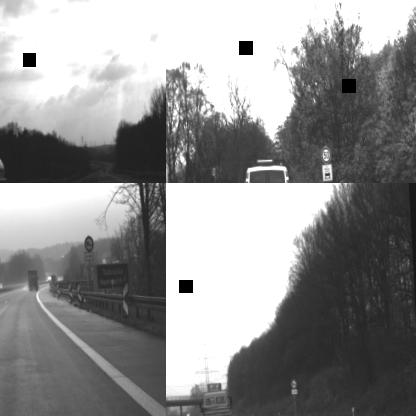no overtaking: (83, 235, 93, 251), (290, 377, 298, 389)
speed limit 50: (320, 145, 332, 164)
